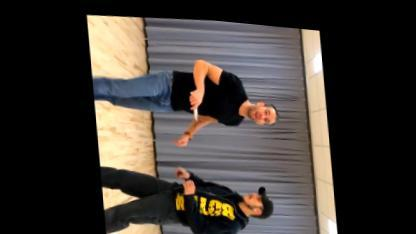knife: (186, 84, 202, 118)
